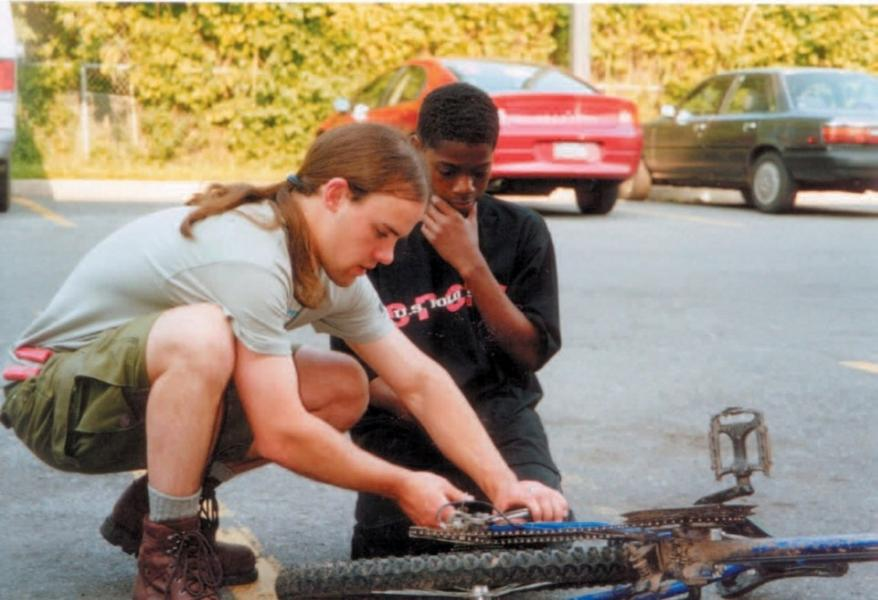person: (4, 122, 570, 600)
